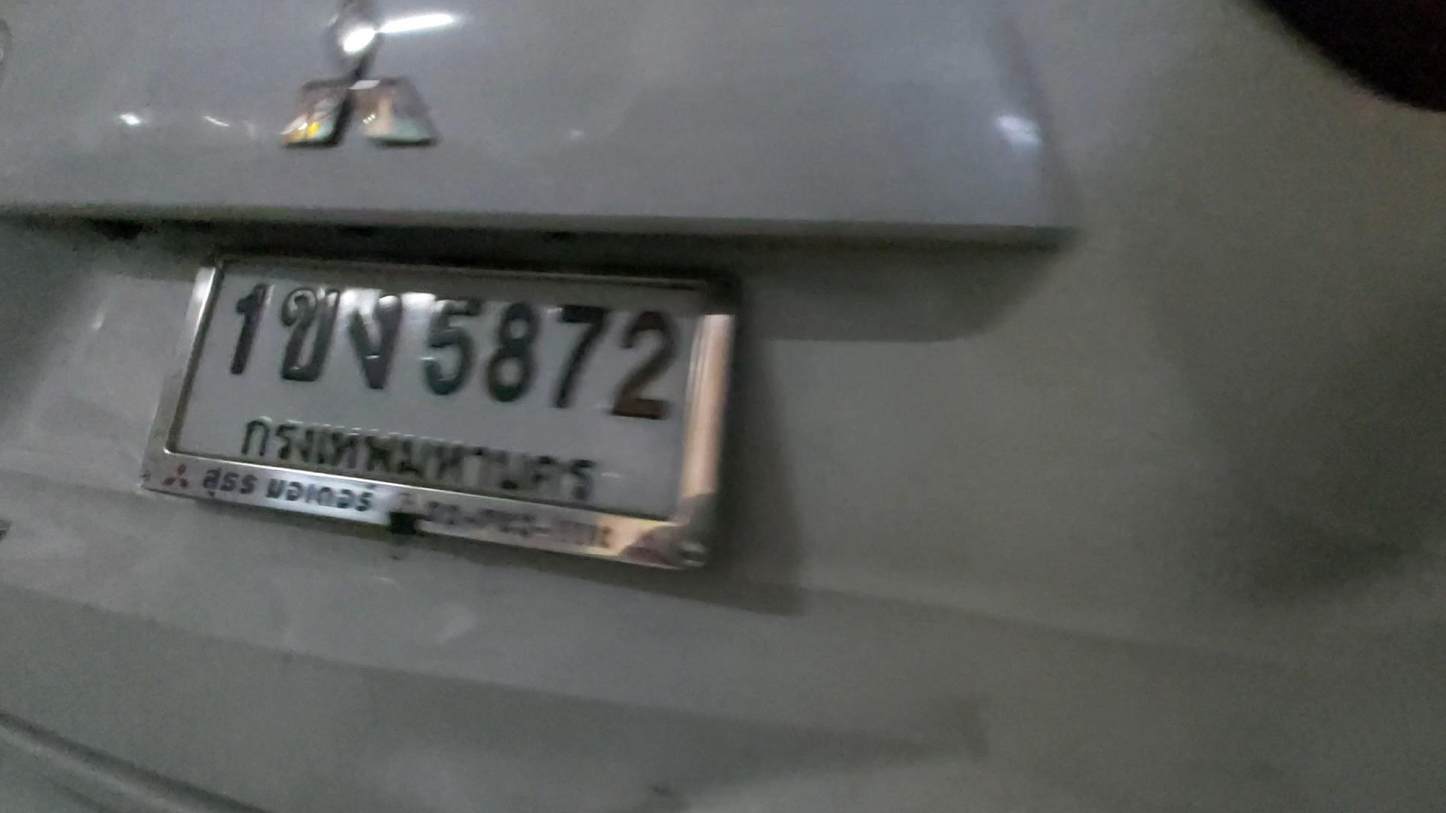license-plate: (168, 252, 699, 524)
